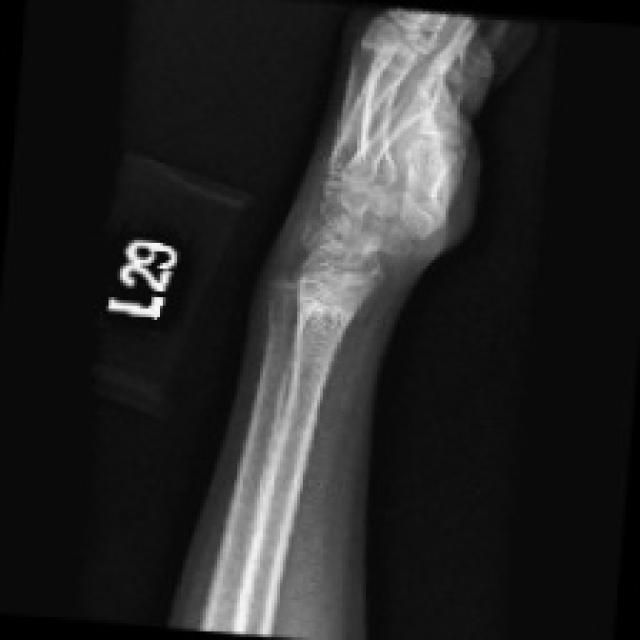fracture: (259, 195, 343, 304)
